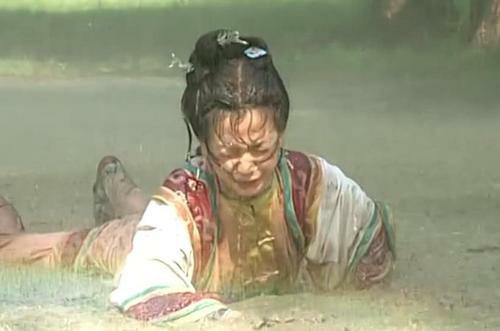Fall-Detected: (0, 7, 412, 329)
